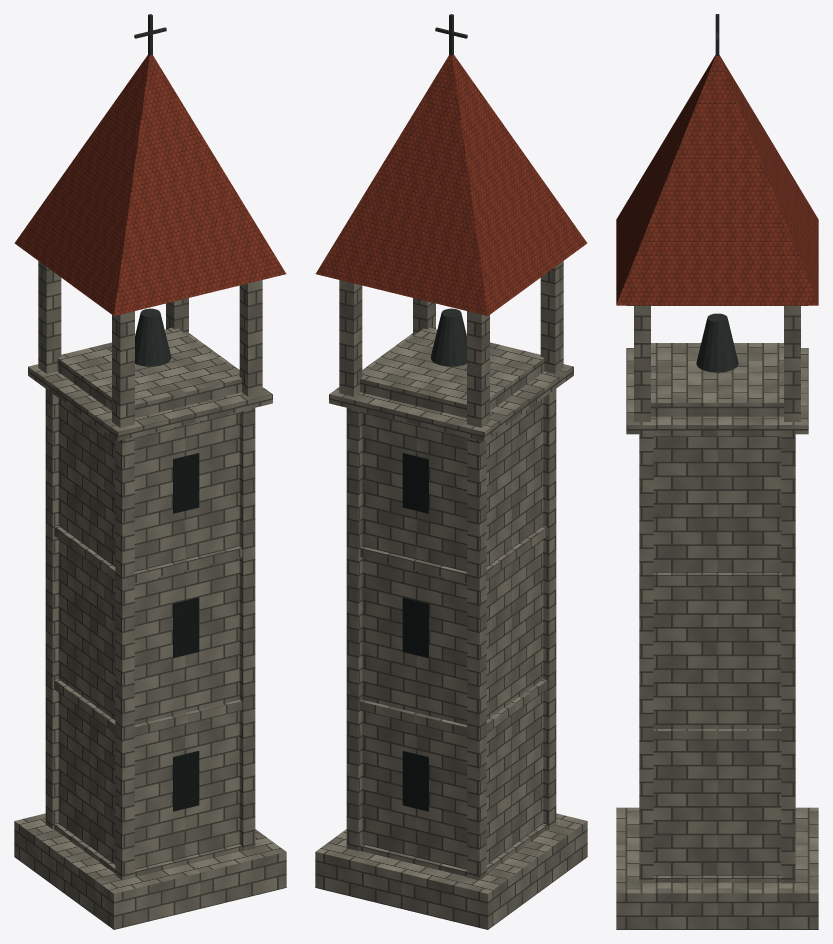
The model's file is SG_Belltower_LOD2.fbx.
3 views of the same model, side by side, from view 1: azimuth 30°, elevation 25°; view 2: azimuth 150°, elevation 25°; view 3: azimuth 270°, elevation 25° (orthographic).
Visible parts, largest first — view 1: SG_Belltower_Detail2; view 2: SG_Belltower_Detail2; view 3: SG_Belltower_Detail2.
Boxes of the visible parts, box(x1,y1,x2,y2) form: SG_Belltower_Detail2: box(14, 14, 286, 929); SG_Belltower_Detail2: box(315, 14, 587, 929); SG_Belltower_Detail2: box(616, 14, 818, 929).
Size of the model in its own units: 20 by 95 by 20.
